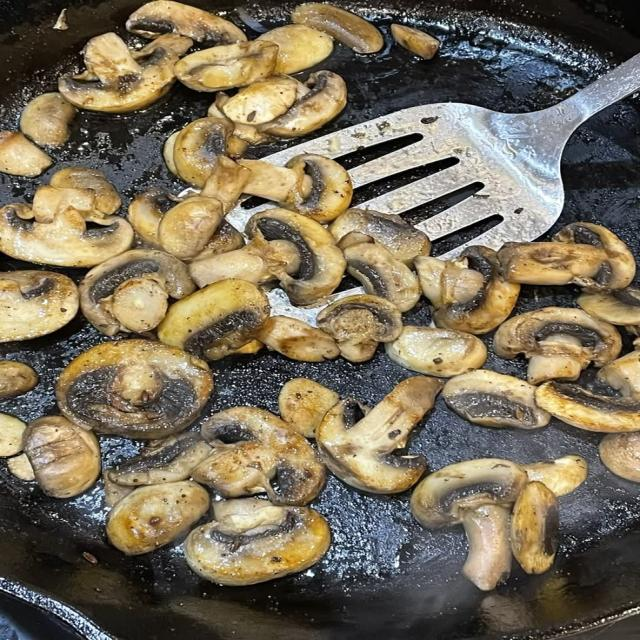champignon mushrooms: (56, 340, 213, 439), (412, 459, 526, 591), (316, 377, 441, 493), (193, 407, 325, 504), (185, 499, 330, 585), (494, 307, 621, 384), (80, 250, 195, 335), (246, 209, 346, 305), (59, 33, 179, 112), (415, 246, 519, 334), (158, 280, 270, 360), (0, 205, 133, 266), (107, 481, 209, 555), (443, 370, 550, 429), (23, 417, 100, 498), (330, 209, 430, 266), (317, 295, 402, 362), (260, 71, 346, 137), (0, 271, 79, 342), (554, 222, 636, 290), (106, 433, 211, 486), (127, 0, 246, 46), (189, 239, 299, 287), (536, 381, 639, 432), (344, 243, 420, 311), (175, 41, 278, 91), (386, 326, 486, 377), (281, 154, 353, 223), (498, 242, 606, 285), (292, 3, 384, 53), (511, 481, 559, 574), (158, 196, 224, 260), (173, 118, 233, 188), (222, 75, 299, 125), (257, 316, 339, 362), (189, 243, 273, 287), (414, 256, 484, 308), (258, 25, 333, 73), (279, 378, 339, 437), (50, 167, 121, 215), (240, 160, 311, 202), (20, 93, 76, 146), (127, 188, 176, 248), (201, 156, 250, 213), (522, 455, 587, 497), (32, 186, 104, 223), (0, 131, 52, 177), (577, 288, 639, 325), (194, 220, 245, 260), (600, 432, 639, 482), (598, 350, 639, 397), (391, 24, 439, 59), (133, 33, 193, 60), (0, 361, 38, 399), (229, 123, 271, 153), (0, 413, 26, 457), (103, 472, 135, 507), (162, 131, 179, 176), (7, 454, 34, 481)
